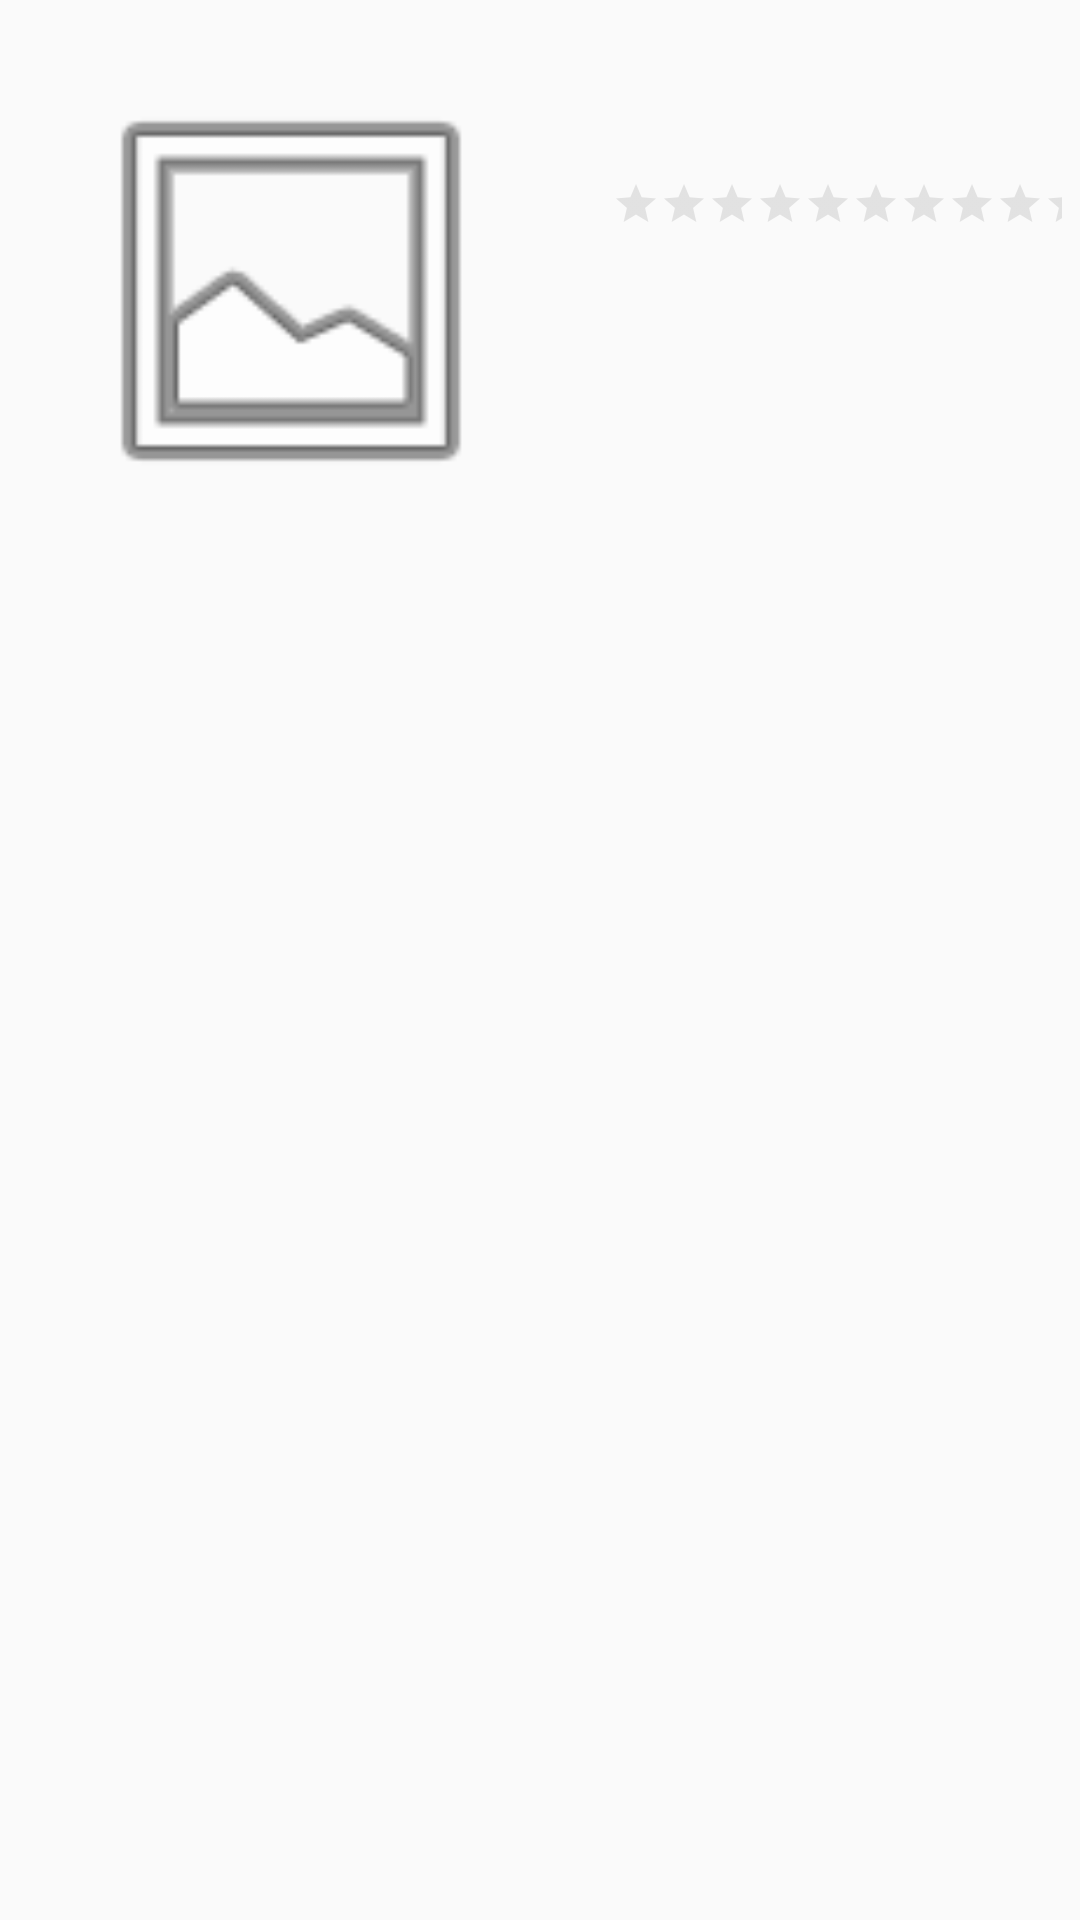

Icon click points for this 1080px x 1920px phone screenshot, format (x,y):
gallery: (291,291)
